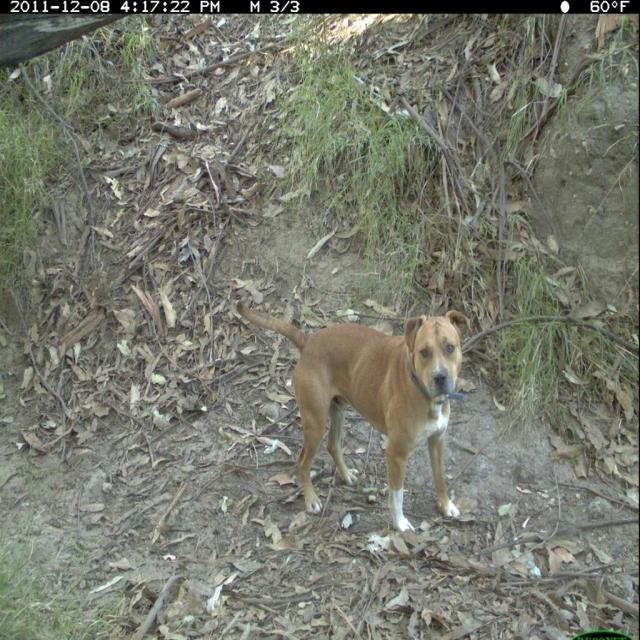dog: (231, 293, 478, 542)
